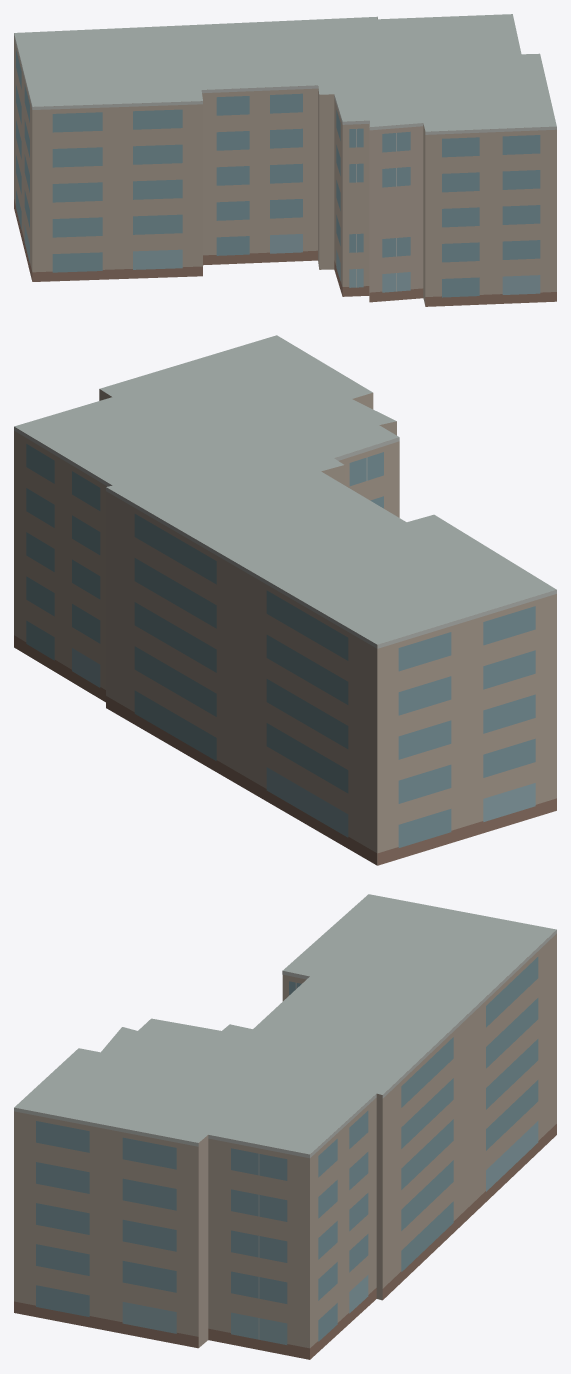
Rendered from survey-upis-32602858.glb.
The picture shows the model from 3 angles, top to bottom: view 1: azimuth 30°, elevation 25°; view 2: azimuth 150°, elevation 25°; view 3: azimuth 270°, elevation 25°; orthographic projection. The views are drawn at different scales.
Parts seen in each view (by area): view 1: survey-upis-32602858.tmp; view 2: survey-upis-32602858.tmp; view 3: survey-upis-32602858.tmp.
Part boxes in pixels (<box>): survey-upis-32602858.tmp: <box>14,14,556,306</box>; survey-upis-32602858.tmp: <box>14,335,556,865</box>; survey-upis-32602858.tmp: <box>14,894,556,1359</box>.
Size of the model in its own units: 35.92 by 13.2 by 31.64.
